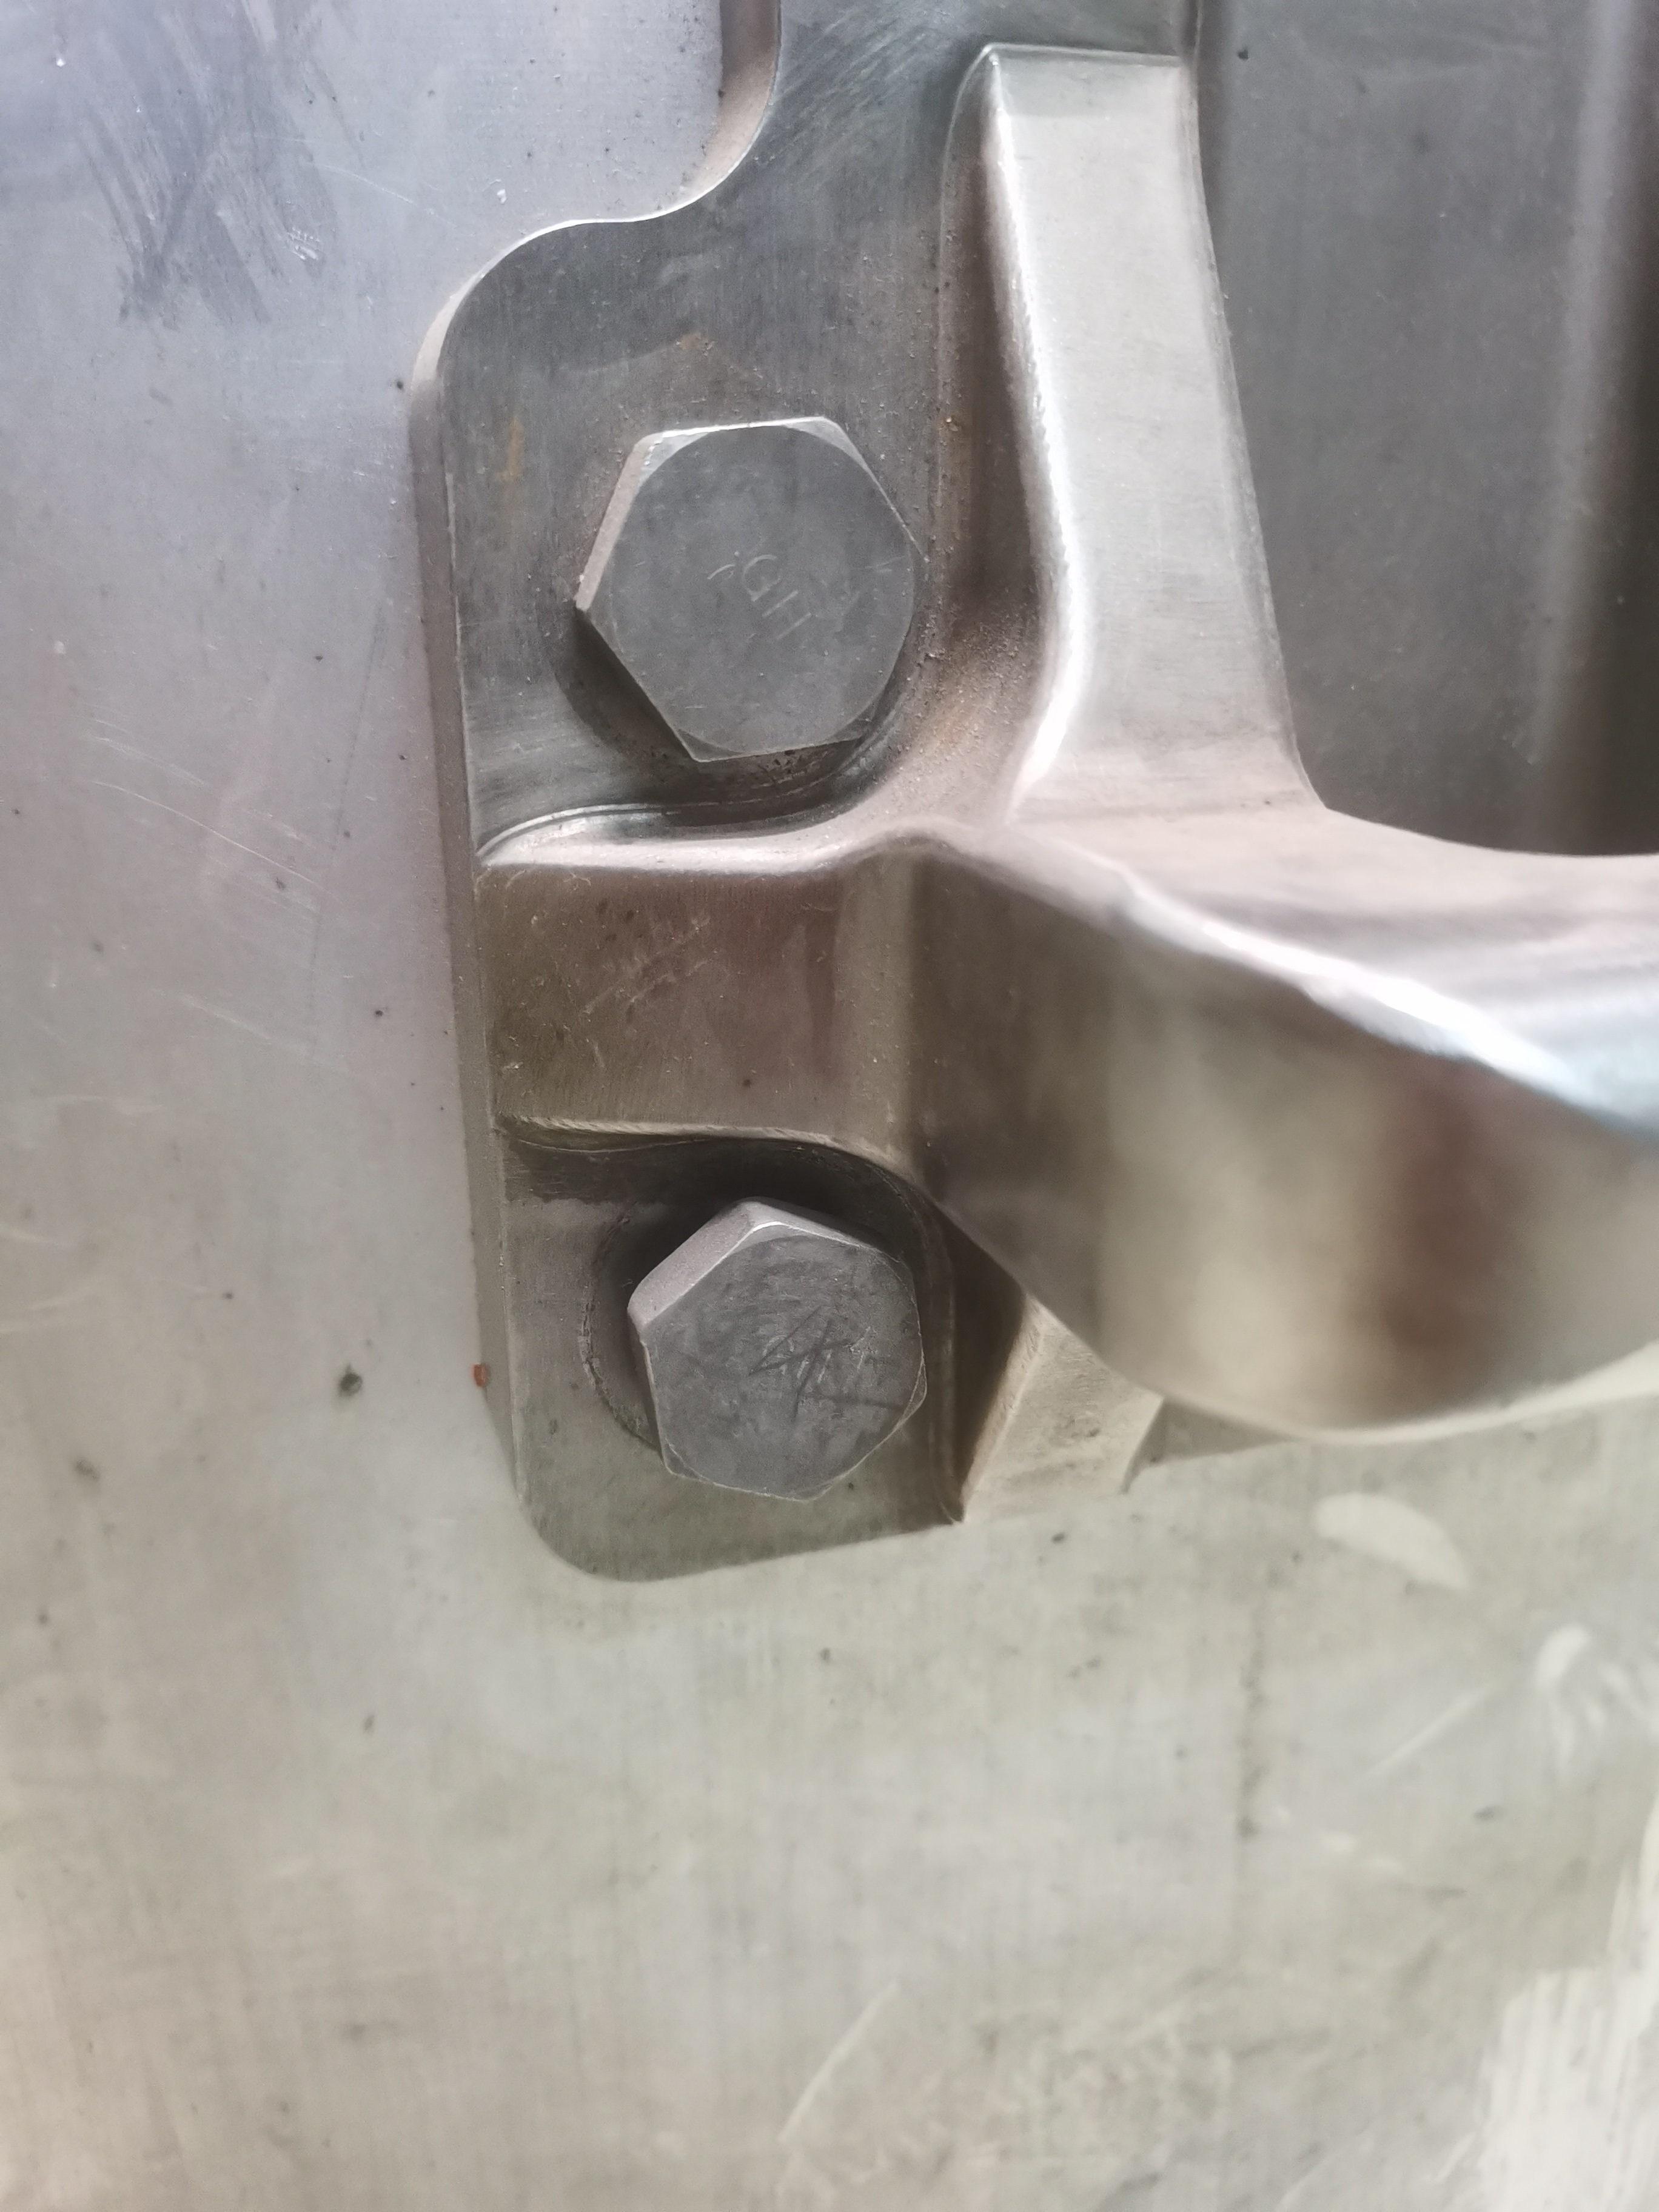bolt_a: (565, 404, 931, 777), (620, 1190, 931, 1507)
